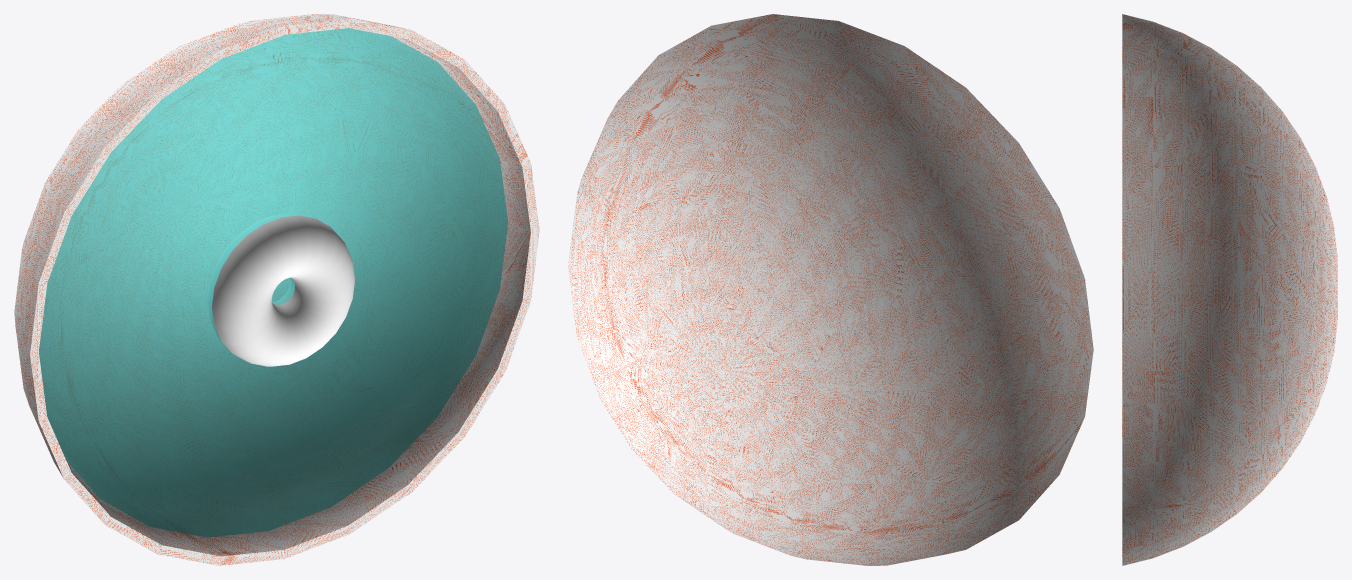
Rendered from model_scale.obj.
3 renders of one model, left to right at view 1: azimuth 30°, elevation 25°; view 2: azimuth 150°, elevation 25°; view 3: azimuth 270°, elevation 25°, orthographic. The views are drawn at different scales.
Parts seen in each view (by area): view 1: mesh3_mesh3-geometry, mesh1_mesh1-geometry, mesh2_mesh2-geometry; view 2: mesh3_mesh3-geometry; view 3: mesh3_mesh3-geometry.
Part boxes in pixels (box(x1,y1,x2,y2)): mesh3_mesh3-geometry: box(14, 14, 539, 565); mesh1_mesh1-geometry: box(212, 215, 354, 366); mesh2_mesh2-geometry: box(208, 214, 312, 338); mesh3_mesh3-geometry: box(568, 14, 1093, 565); mesh3_mesh3-geometry: box(1122, 14, 1337, 565).
Size of the model in its own units: 0.1432 by 0.1432 by 0.0558.
